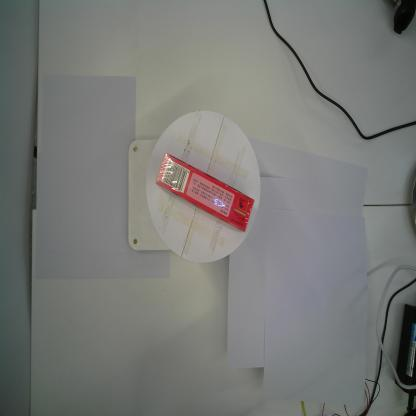Instant Drink: (154, 153, 256, 234)
